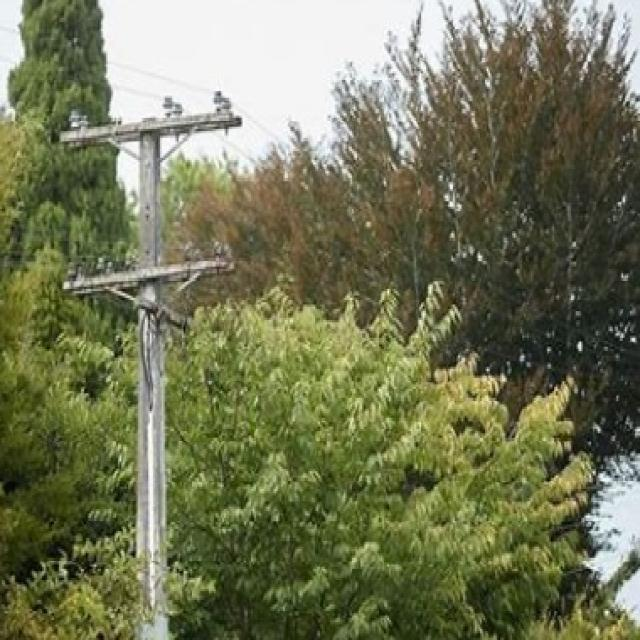utility poles: (58, 84, 252, 640)
